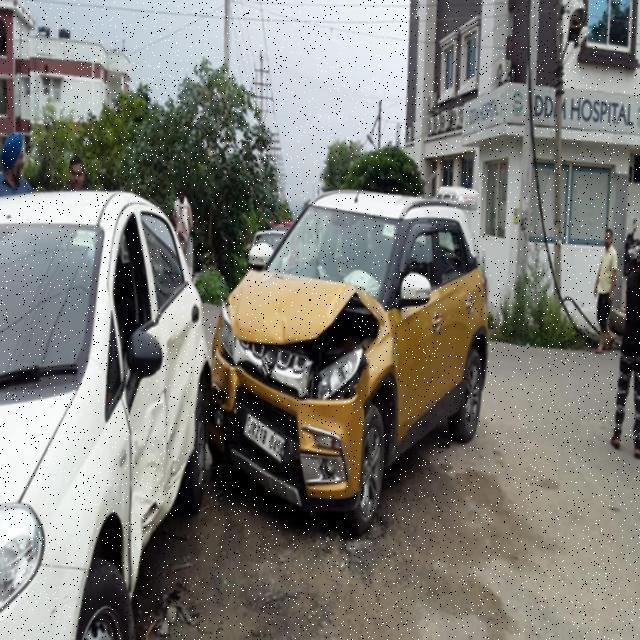bonnet-dent: (220, 270, 388, 390)
doorouter-dent: (126, 358, 168, 549), (163, 314, 201, 464)
front-bumper-dent: (0, 545, 139, 639)
